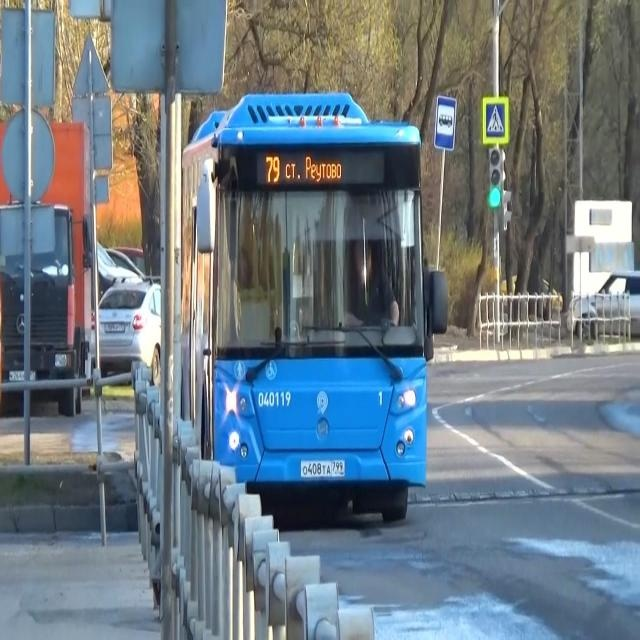Bus: (170, 92, 434, 540)
